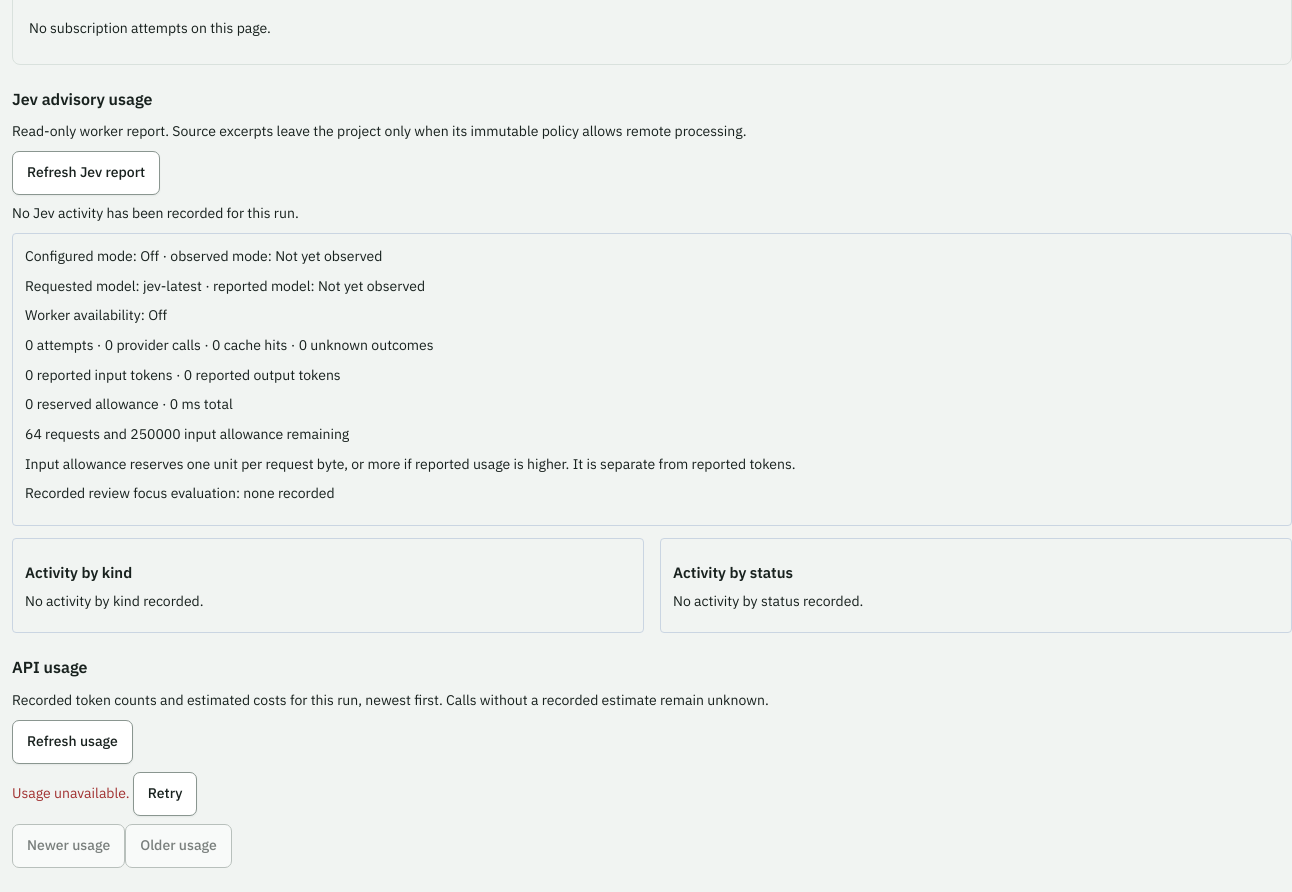
Test: usage failure is recoverable without displaying an invented empty result
This screenshot has width=1292, height=892.
(page scrolled)
Expected: the message shows "Usage unavailable", [12, 784, 133, 802]
Expected: the text "No usage recorded on this page." is not shown
Step 1. Click the button "Retry" → (165,794), box [133, 772, 197, 816]
(page scrolled)
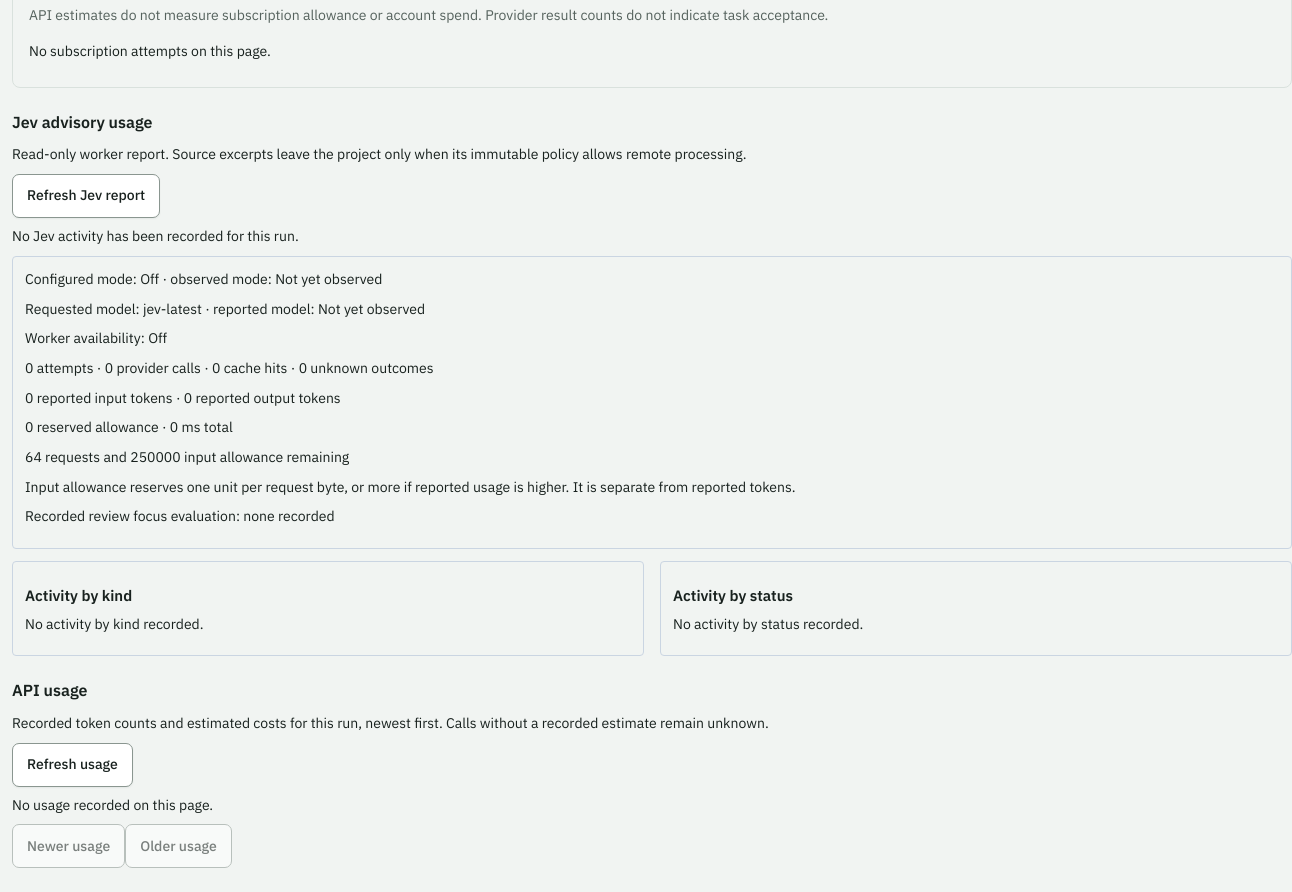
Expected: the text "No usage recorded on this page." is shown, [12, 796, 213, 814]
